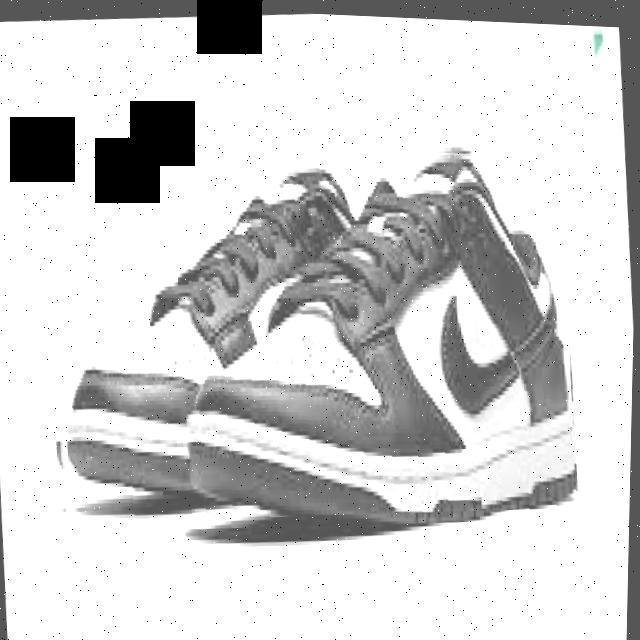shoe: (29, 114, 588, 550), (164, 121, 585, 530)
